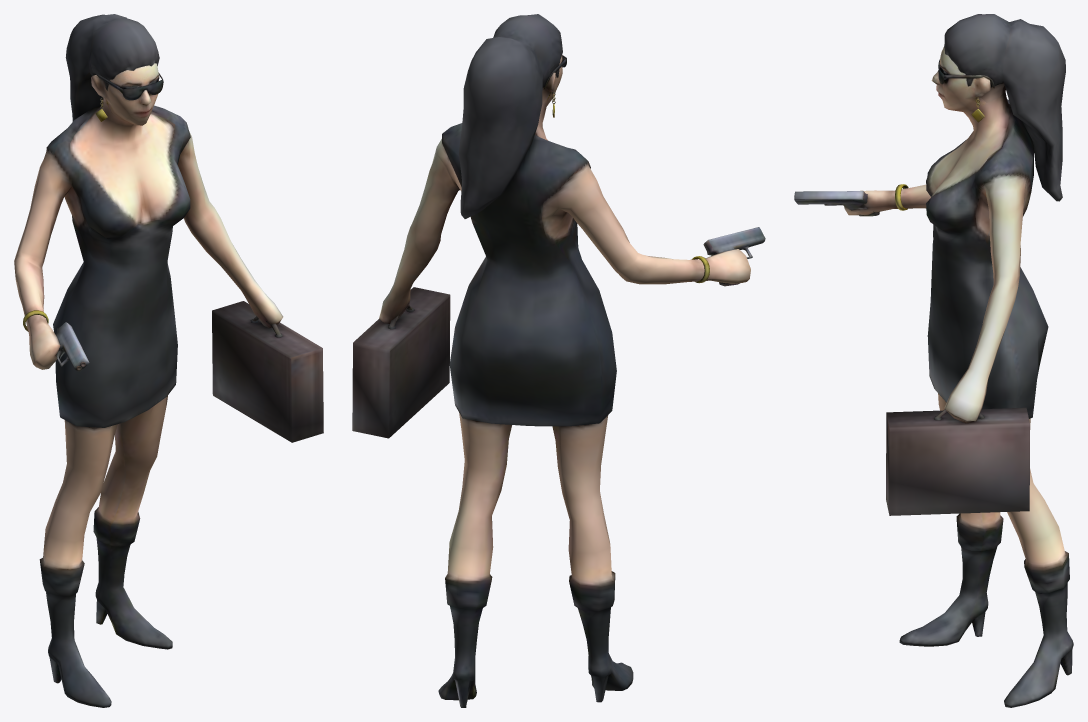
The model's file is Spy.glb.
The picture shows the model from 3 angles, left to right: view 1: azimuth 30°, elevation 25°; view 2: azimuth 150°, elevation 25°; view 3: azimuth 270°, elevation 25°; orthographic projection. The views are drawn at different scales.
Parts seen in each view (by area): view 1: Plane_00100; view 2: Plane_00100; view 3: Plane_00100.
Part boxes in pixels (x1=…): Plane_00100: x1=14, y1=14, x2=323, y2=707; Plane_00100: x1=352, y1=14, x2=765, y2=707; Plane_00100: x1=794, y1=14, x2=1073, y2=707.
Size of the model in its own units: 3.78 by 7.63 by 2.93.
Materials: 1 (1 with a texture image).
